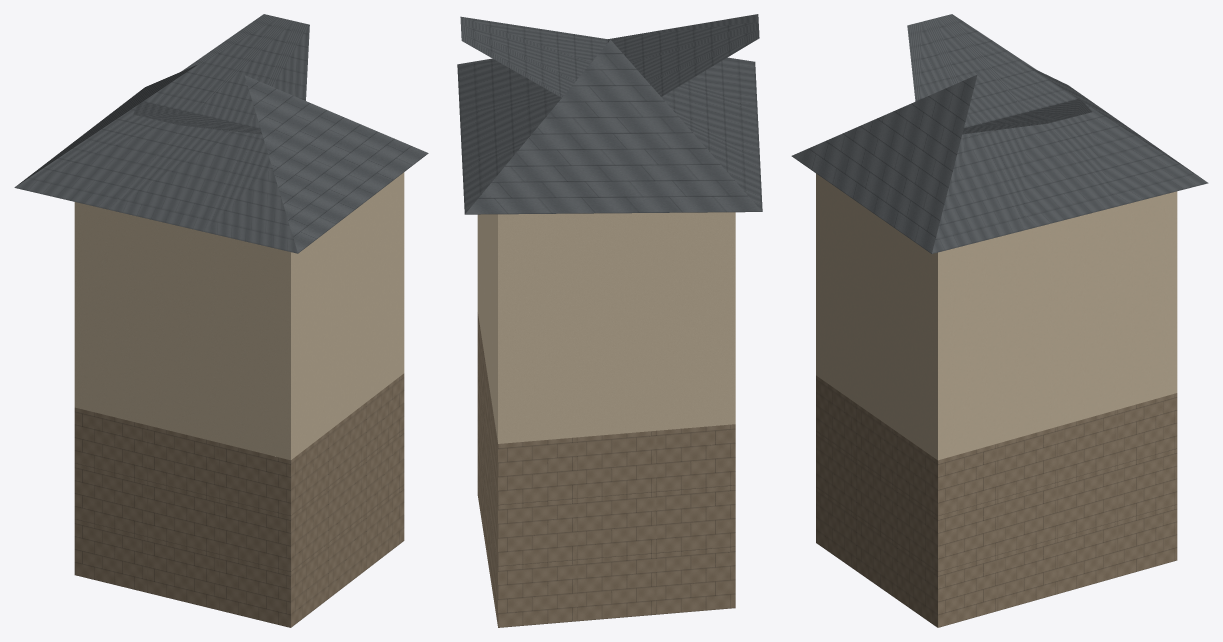
Rendered from bld_c41_-5_570.gltf.
The picture shows the model from 3 angles, left to right: view 1: azimuth 30°, elevation 25°; view 2: azimuth 150°, elevation 25°; view 3: azimuth 270°, elevation 25°; orthographic projection. The views are drawn at different scales.
Visible parts, largest first — view 1: bld_c41_-5_570; view 2: bld_c41_-5_570; view 3: bld_c41_-5_570.
Part boxes in pixels (<box>): bld_c41_-5_570: <box>14,14,428,627</box>; bld_c41_-5_570: <box>457,14,762,627</box>; bld_c41_-5_570: <box>791,14,1208,627</box>.
Size of the model in its own units: 11.03 by 14.77 by 11.52.
Materials: 3 (3 with a texture image).
